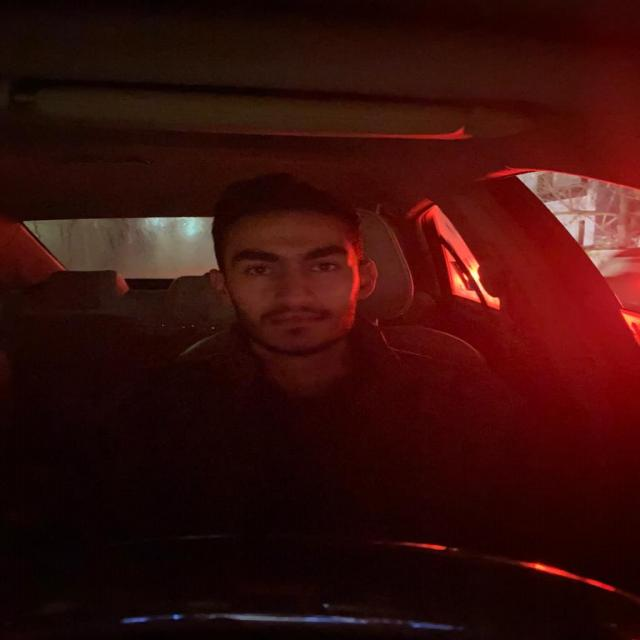person: (197, 184, 387, 360)
